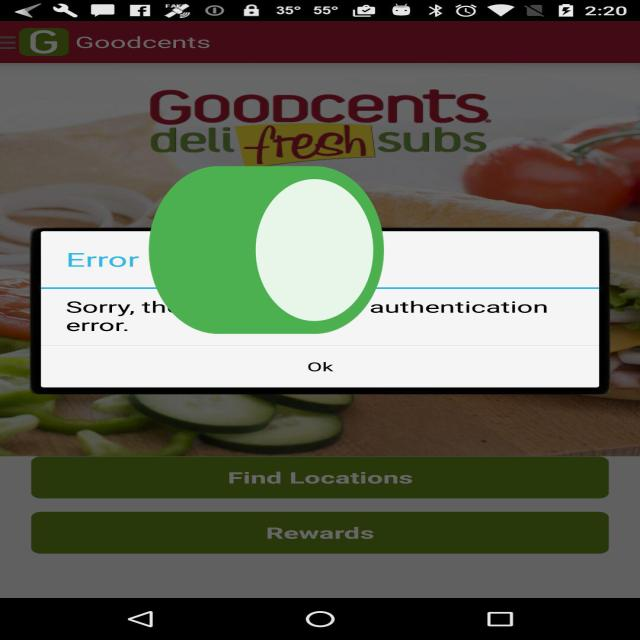social proof: (138, 102, 395, 411)
